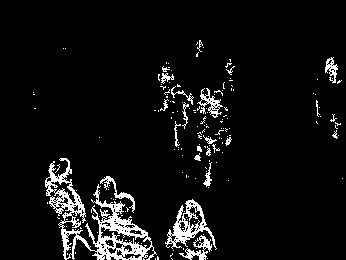person: (45, 156, 96, 260), (103, 191, 159, 260), (165, 198, 217, 260), (202, 90, 233, 188), (90, 174, 124, 260), (167, 87, 192, 148), (156, 63, 177, 118)
